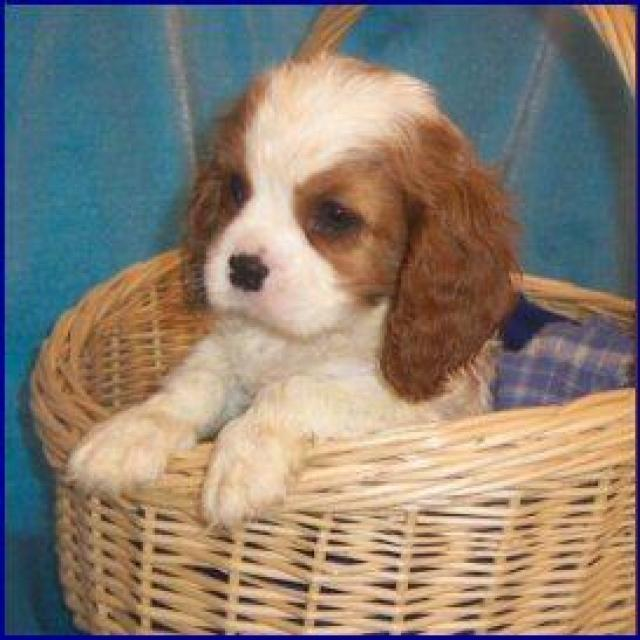blenheim_spaniel: (63, 51, 516, 528)
